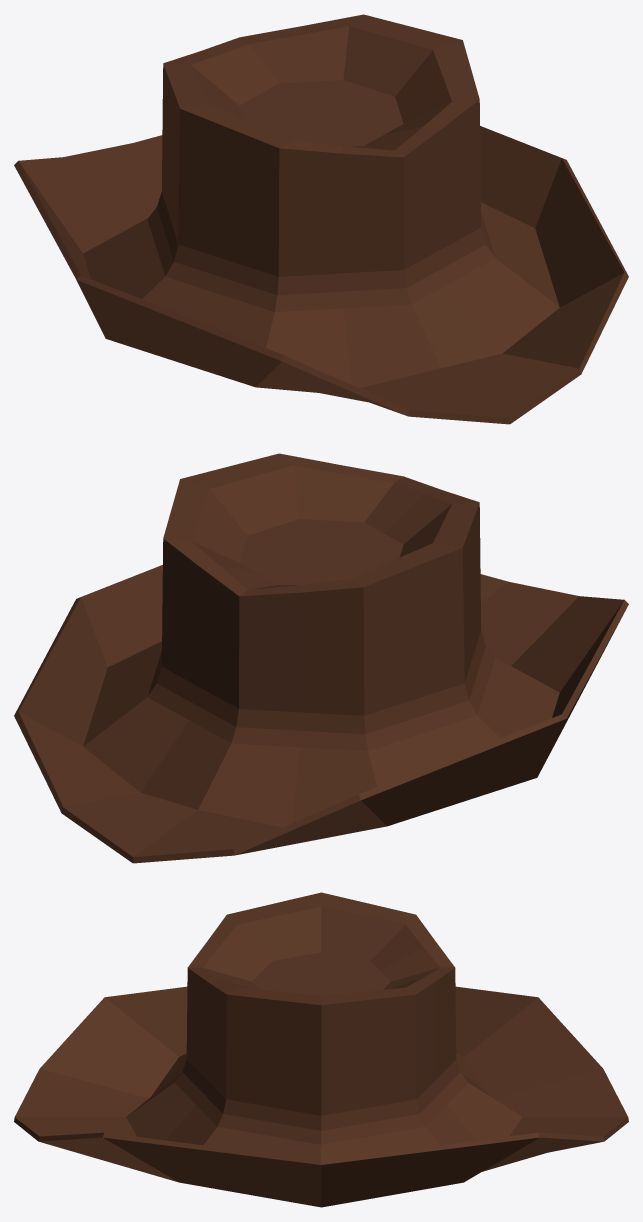
Rendered from scene_k4NgyNPbD7.glb.
3 views of the same model, one above another, from view 1: azimuth 30°, elevation 25°; view 2: azimuth 150°, elevation 25°; view 3: azimuth 270°, elevation 25° (orthographic). The views are drawn at different scales.
Parts seen in each view (by area): view 1: Cowboy_Hat_Cylinder; view 2: Cowboy_Hat_Cylinder; view 3: Cowboy_Hat_Cylinder.
Boxes of the visible parts, x1,y1,x2,y2 form: Cowboy_Hat_Cylinder: (14, 14, 628, 424); Cowboy_Hat_Cylinder: (14, 453, 628, 863); Cowboy_Hat_Cylinder: (14, 892, 628, 1207).
Bounding box in the file's own units: 1.24 × 0.5501 × 1.65.
